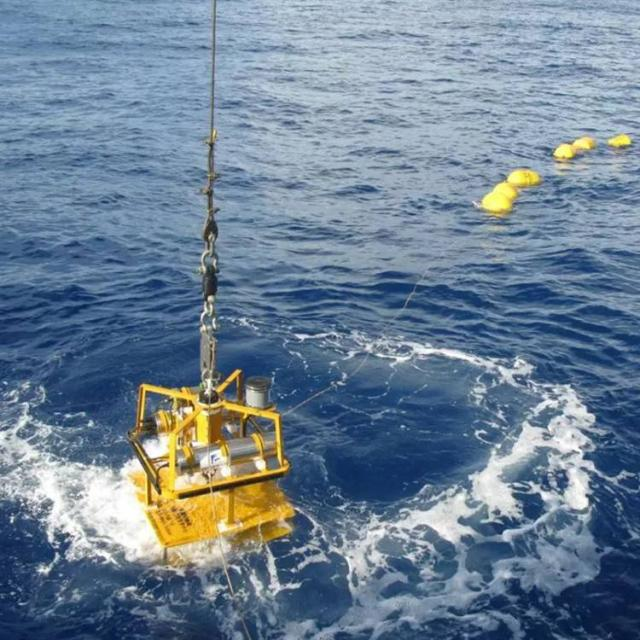buoy: (113, 361, 297, 551)
